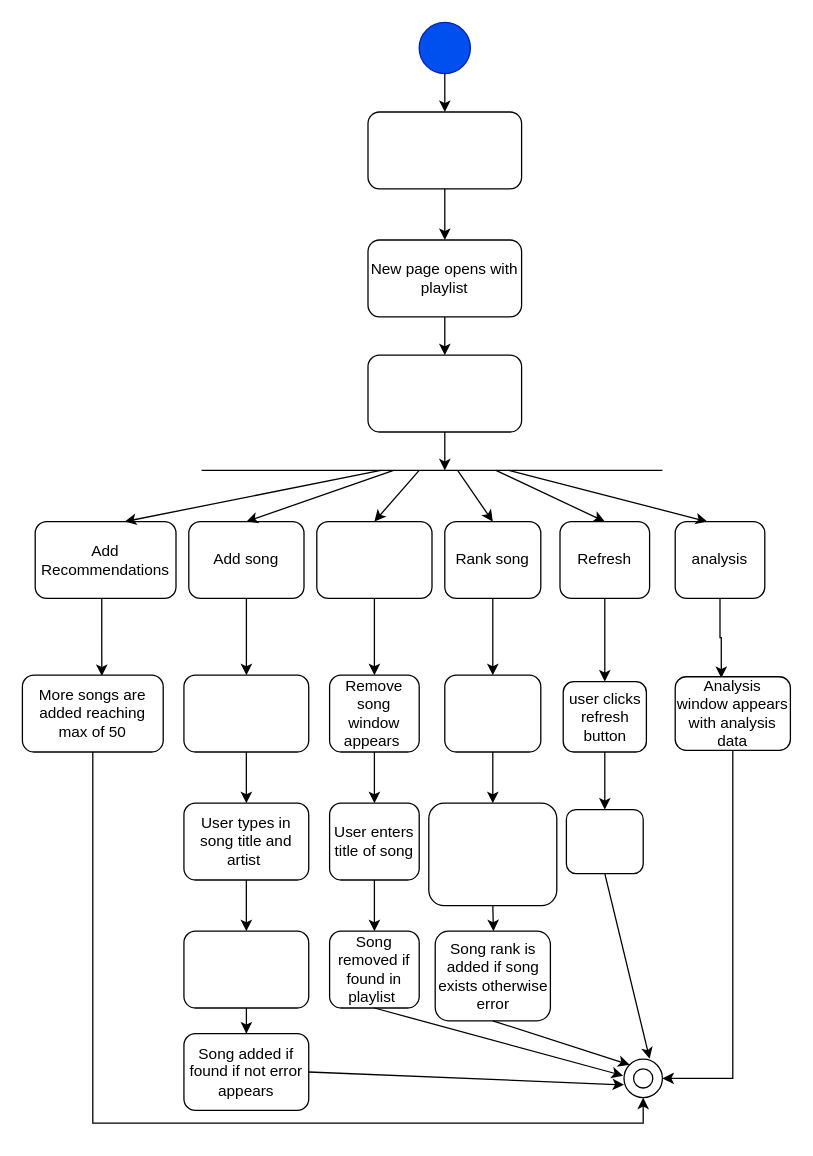
Some shapes in this 813 by 1156 pixel diagram are drawn without their labels. The shapes that lost their labels are listed below. From the top down, each one's centre as x and y in pixels, then its label:
(x=444, y=150): Select a playlist on main menu or brought by creation of playlist
(x=444, y=393): User clicks button
(x=374, y=559): Remove song
(x=246, y=713): Add song window appears
(x=492, y=713): rank song window appears
(x=492, y=854): User enter song title and rank from 1-3
(x=604, y=841): all songs appear
(x=246, y=969): User confirms with "Add" button
